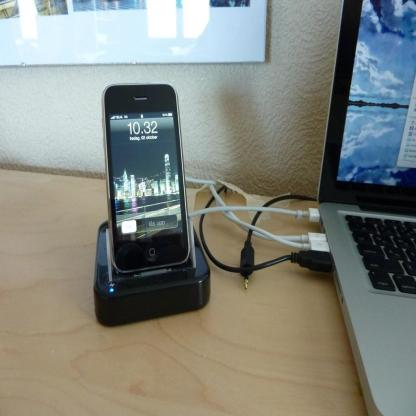board: (316, 0, 415, 415)
